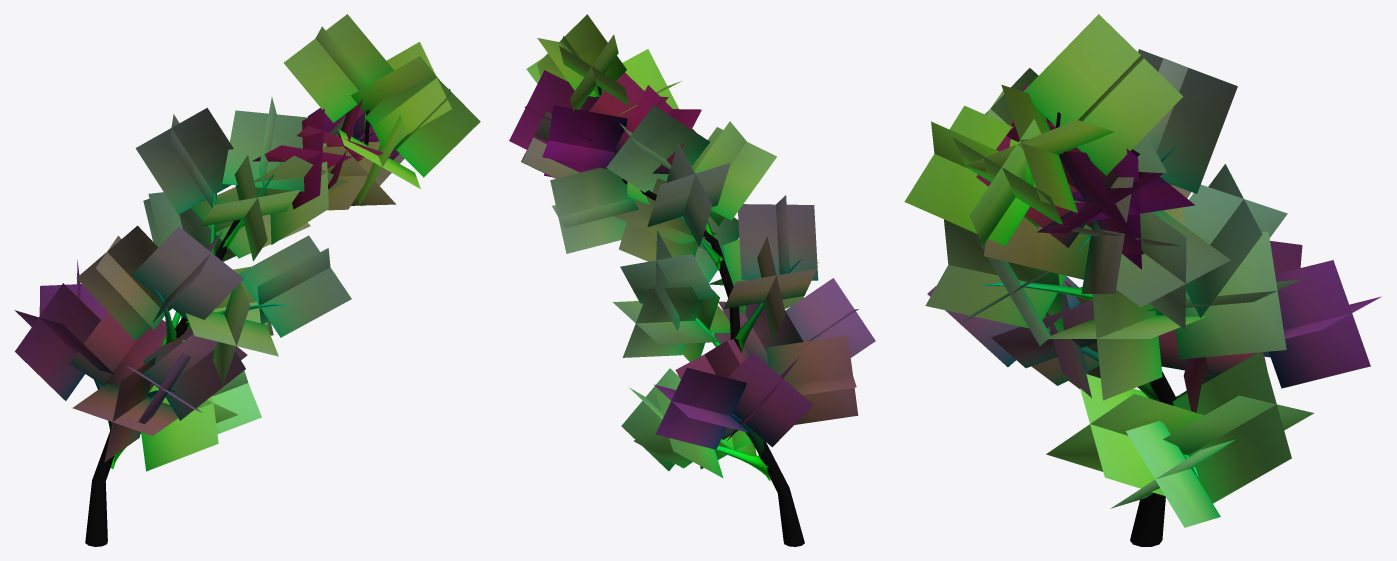
File: URP_P5_Tree_6_LOD_2.fbx
3 renders of one model, left to right at view 1: azimuth 30°, elevation 25°; view 2: azimuth 150°, elevation 25°; view 3: azimuth 270°, elevation 25°, orthographic. The views are drawn at different scales.
Visible parts, largest first — view 1: Tree_6_LOD_2; view 2: Tree_6_LOD_2; view 3: Tree_6_LOD_2.
Boxes of the visible parts, bbox=[...] form: Tree_6_LOD_2: bbox=[14, 14, 480, 546]; Tree_6_LOD_2: bbox=[509, 14, 875, 546]; Tree_6_LOD_2: bbox=[904, 14, 1381, 546].
Size of the model in its own units: 420 by 514 by 333.
